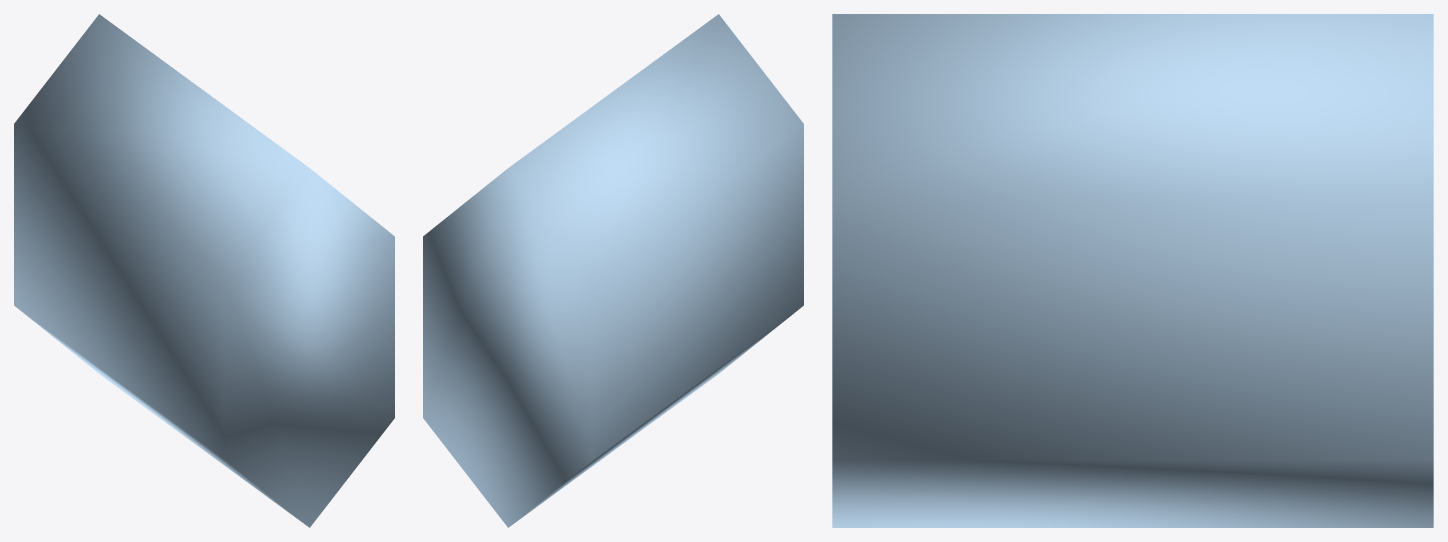
File: crocoite.glb
3 views of the same model, side by side, from view 1: azimuth 30°, elevation 25°; view 2: azimuth 150°, elevation 25°; view 3: azimuth 270°, elevation 25° (orthographic). The views are drawn at different scales.
Visible parts, largest first — view 1: crocoite; view 2: crocoite; view 3: crocoite.
Part boxes in pixels (x1=…): crocoite: x1=14, y1=14, x2=394, y2=527; crocoite: x1=423, y1=14, x2=803, y2=527; crocoite: x1=832, y1=14, x2=1433, y2=527.
Bounding box in the file's own units: 1.4 × 2.83 × 3.
